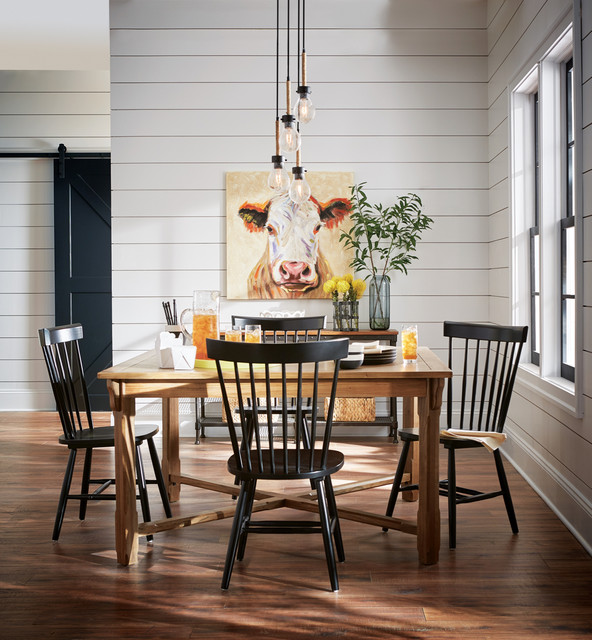chair: (208, 340, 348, 594), (441, 321, 524, 539), (40, 330, 114, 535), (229, 314, 325, 344)
